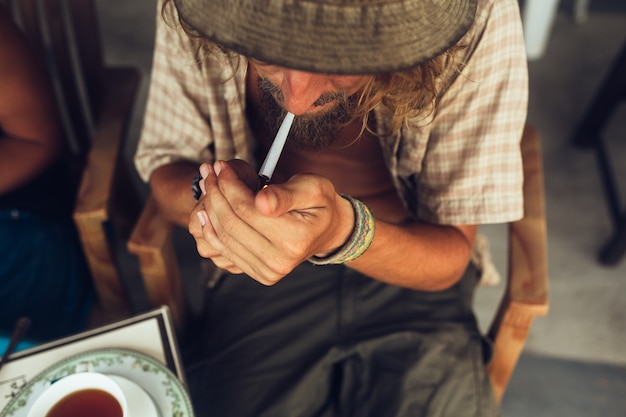cigarette: (257, 111, 295, 183)
